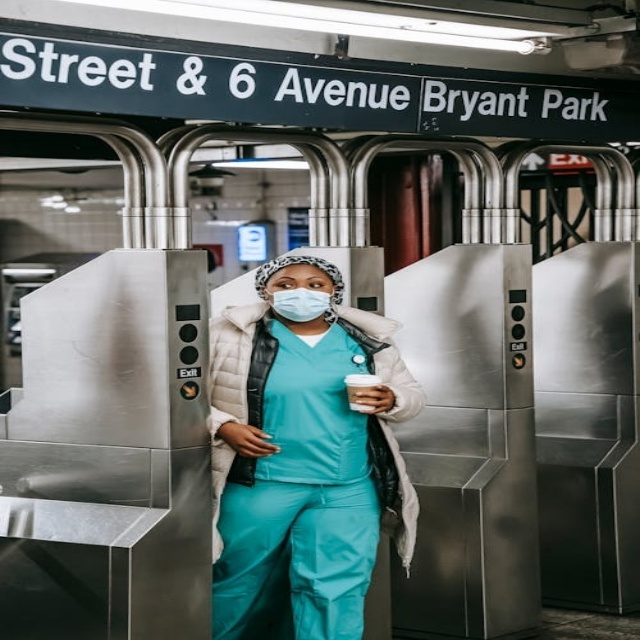Mascara: (269, 287, 333, 321)
Sin_gafas: (309, 282, 325, 289), (279, 283, 296, 289)
Sin_guantes: (215, 416, 288, 460), (351, 380, 398, 419)
